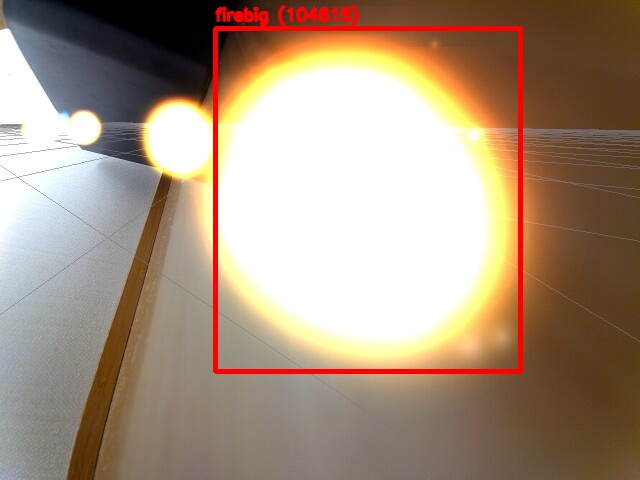firebig: (215, 28, 520, 371)
